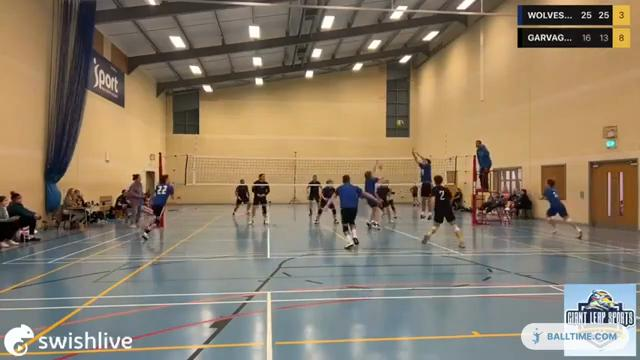Player: (334, 175, 377, 248), (422, 175, 465, 247), (543, 179, 581, 238), (142, 175, 173, 239), (364, 162, 380, 229), (249, 173, 269, 224), (315, 179, 337, 223), (376, 180, 394, 222), (233, 179, 250, 214), (307, 175, 320, 216), (384, 179, 397, 218)
Set: (411, 145, 435, 220)
ball: (396, 119, 404, 126)
